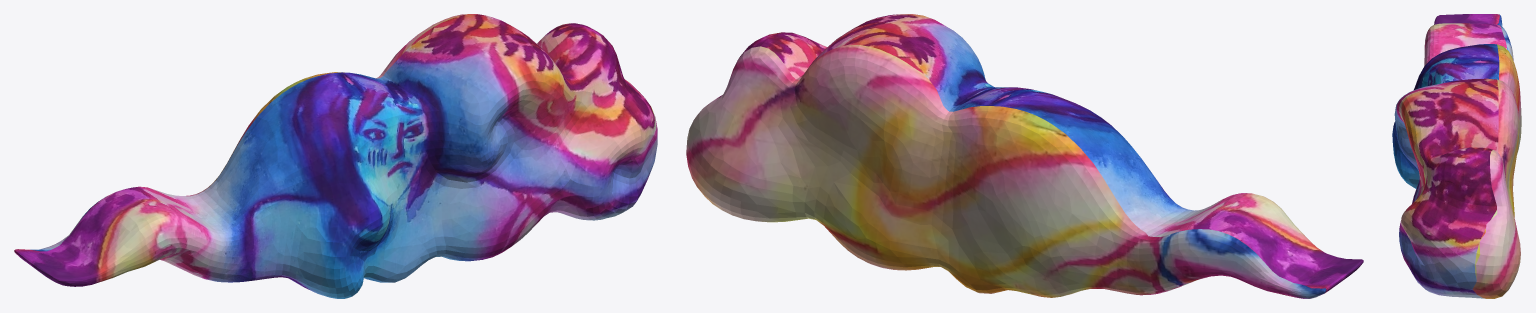
File: cloud3.fbx
The picture shows the model from 3 angles, left to right: view 1: azimuth 30°, elevation 25°; view 2: azimuth 150°, elevation 25°; view 3: azimuth 270°, elevation 25°; orthographic projection. The views are drawn at different scales.
Parts seen in each view (by area): view 1: CLOUD_LOW POLLY; view 2: CLOUD_LOW POLLY; view 3: CLOUD_LOW POLLY.
Part boxes in pixels (left/top/right/bottom): CLOUD_LOW POLLY: left=14, top=14, right=657, bottom=298; CLOUD_LOW POLLY: left=686, top=14, right=1363, bottom=298; CLOUD_LOW POLLY: left=1392, top=14, right=1521, bottom=298.
Bounding box in the file's own units: 27.66 × 124 × 41.99.
